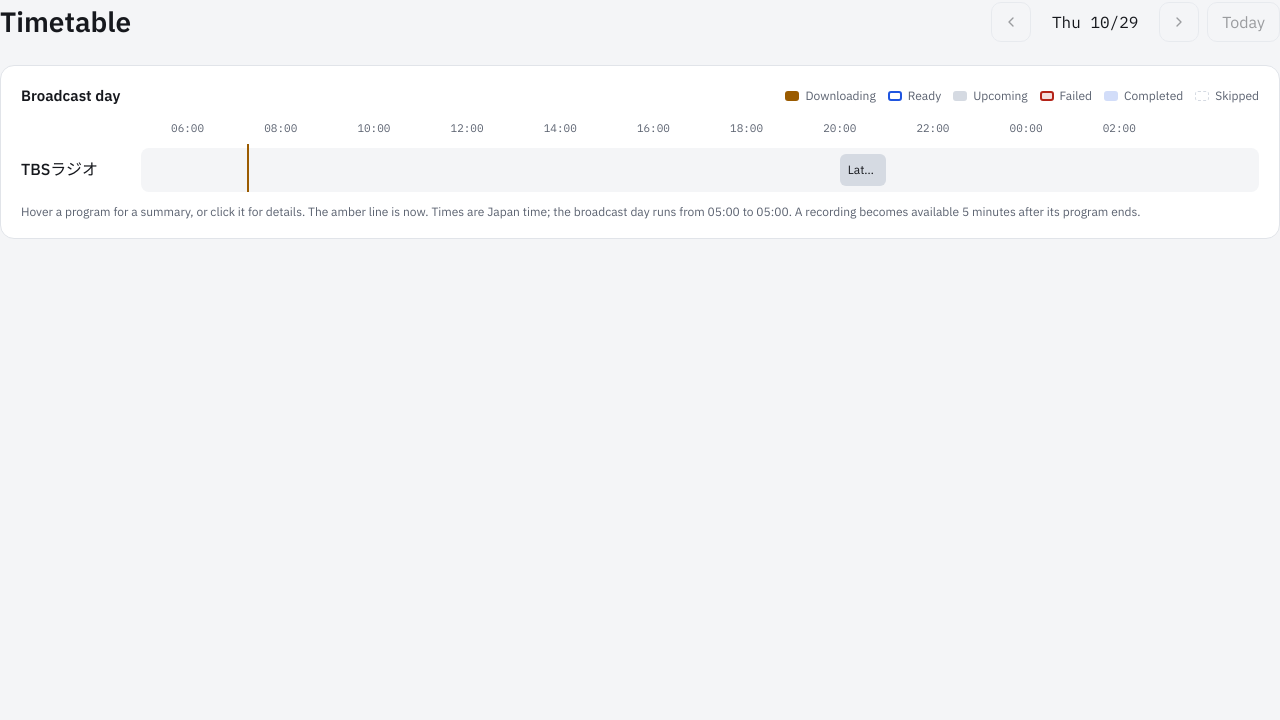
Scenario: Timetable › shows a summary on hover and details on click
Hover over the button "Late Show" at (863, 170), box left=840, top=154, right=886, bottom=186
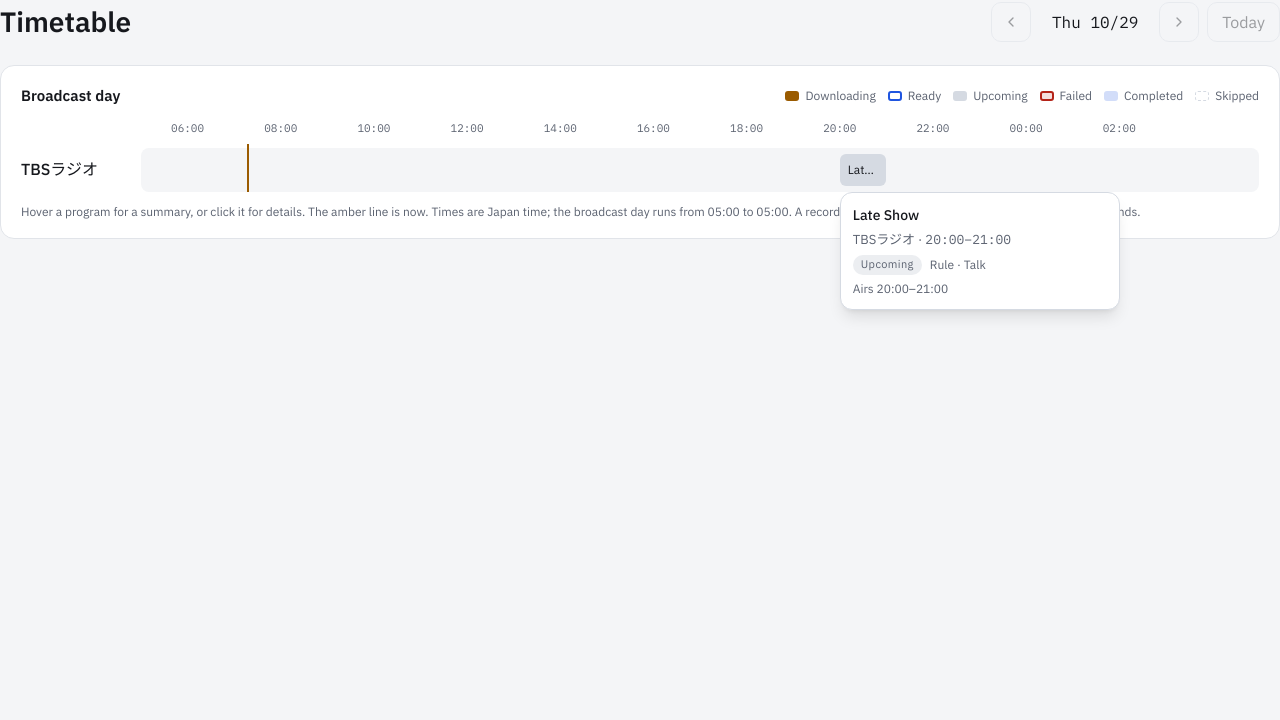
Expected: the tooltip shows "20:00–21:00", left=853, top=281, right=948, bottom=296
Expected: the tooltip shows "Rule · Talk", left=930, top=257, right=986, bottom=272
Move the pointer off the button "Late Show", box left=840, top=154, right=886, bottom=186
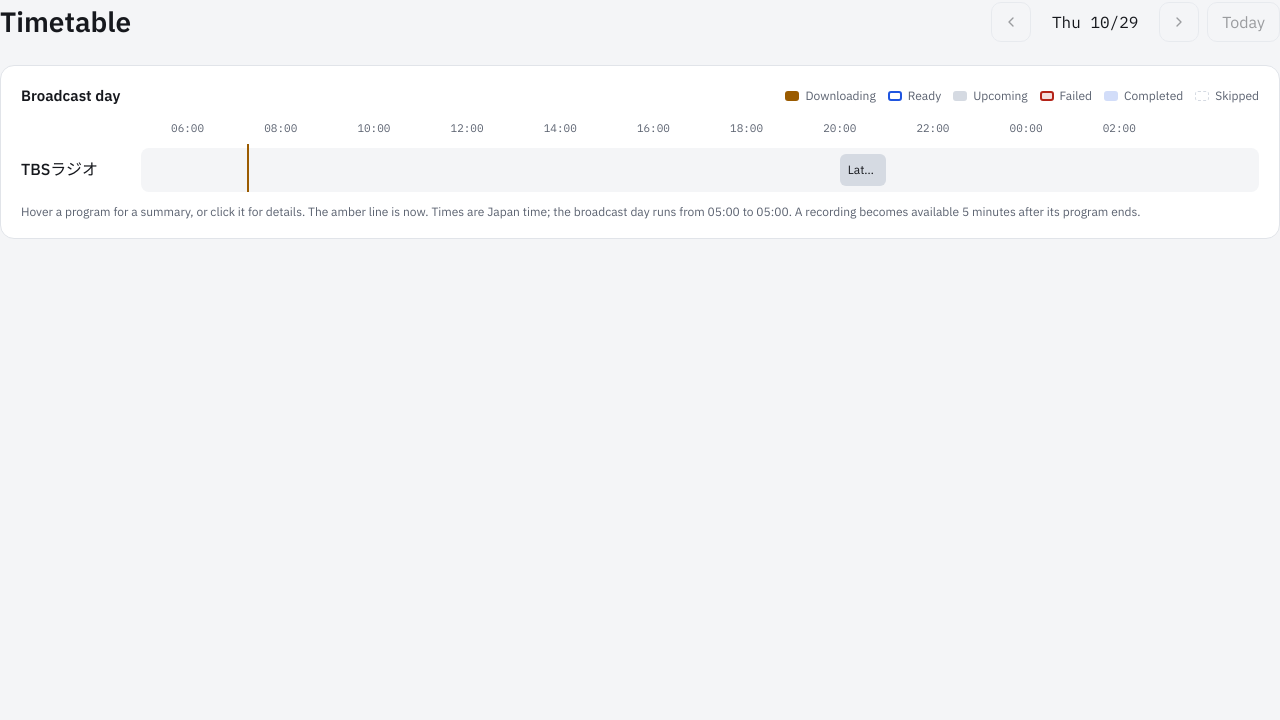
Expected: the tooltip "Late Show TBSラジオ · 20:00–21:00 Upcoming Rule · Talk Airs 20:00–21:00" is gone
Click the button "Late Show" at (863, 170), box left=840, top=154, right=886, bottom=186
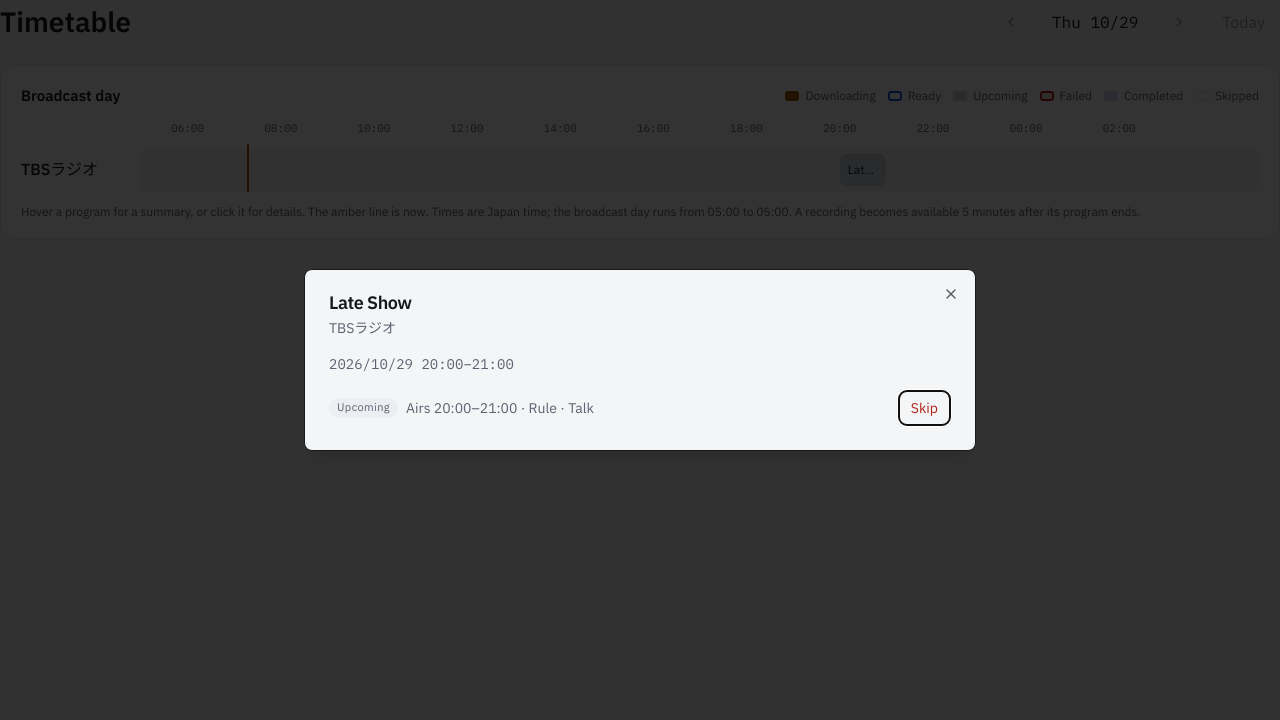
Expected: the dialog is shown, left=304, top=269, right=976, bottom=451
